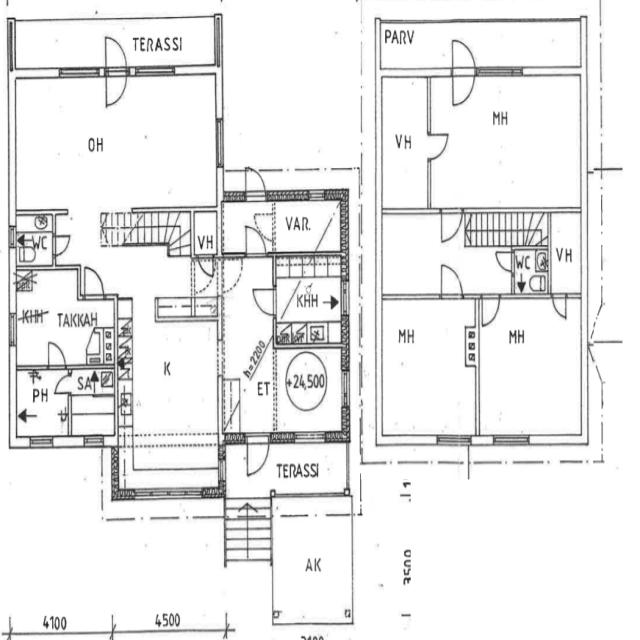door: (449, 35, 477, 111), (103, 34, 129, 109), (243, 430, 272, 479), (438, 260, 466, 301), (438, 206, 464, 246), (80, 262, 107, 300), (242, 222, 269, 260), (242, 164, 268, 202), (220, 255, 244, 294), (251, 284, 278, 318), (426, 128, 452, 162), (479, 292, 502, 328), (50, 353, 72, 390), (44, 338, 68, 370), (494, 247, 516, 276), (51, 232, 73, 260), (550, 291, 569, 320), (196, 252, 214, 282), (54, 371, 72, 396)
window: (130, 483, 204, 504), (233, 496, 270, 521), (526, 429, 572, 449), (491, 429, 532, 449), (133, 62, 177, 80), (58, 63, 100, 81), (213, 114, 226, 170), (17, 65, 62, 81), (478, 64, 522, 80), (292, 428, 328, 447), (343, 441, 354, 492), (132, 486, 166, 502), (6, 311, 19, 349), (340, 276, 352, 316), (28, 433, 56, 450), (340, 366, 351, 406), (80, 432, 106, 448), (216, 450, 227, 487), (308, 187, 326, 203)
zone: (7, 73, 216, 216), (116, 252, 222, 491), (224, 2, 363, 181), (431, 74, 582, 206), (477, 294, 583, 440), (379, 296, 478, 441), (12, 266, 112, 367), (221, 260, 273, 430), (379, 73, 432, 212), (275, 344, 347, 436), (273, 257, 347, 345), (265, 197, 345, 254), (14, 367, 72, 440), (68, 372, 115, 440), (549, 211, 582, 295), (12, 211, 55, 267), (512, 246, 550, 294), (69, 366, 115, 396), (192, 210, 218, 258), (117, 372, 133, 430)
